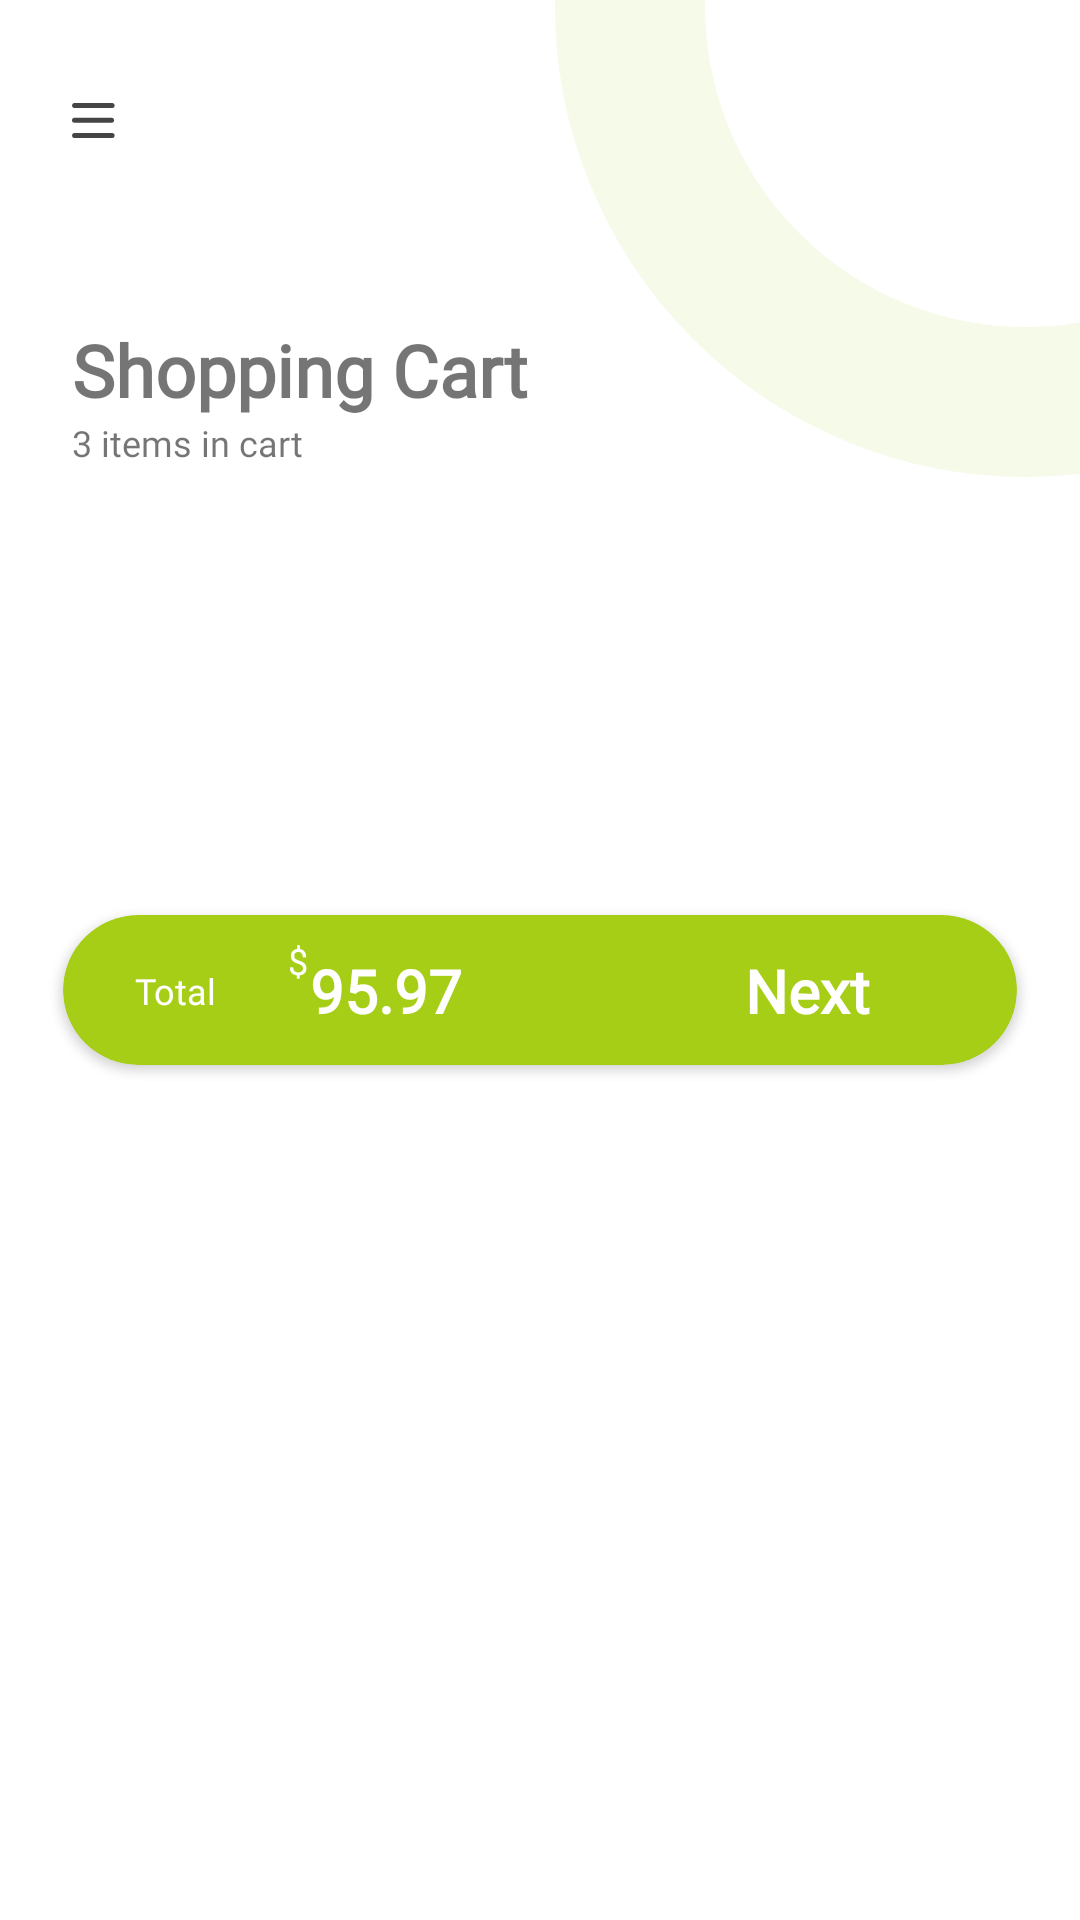

Named icons in this screenshot (1080×1920) and their bounding boxes, Rect(x1, y1, x2, y2):
ham burger: Rect(72, 103, 115, 138)
